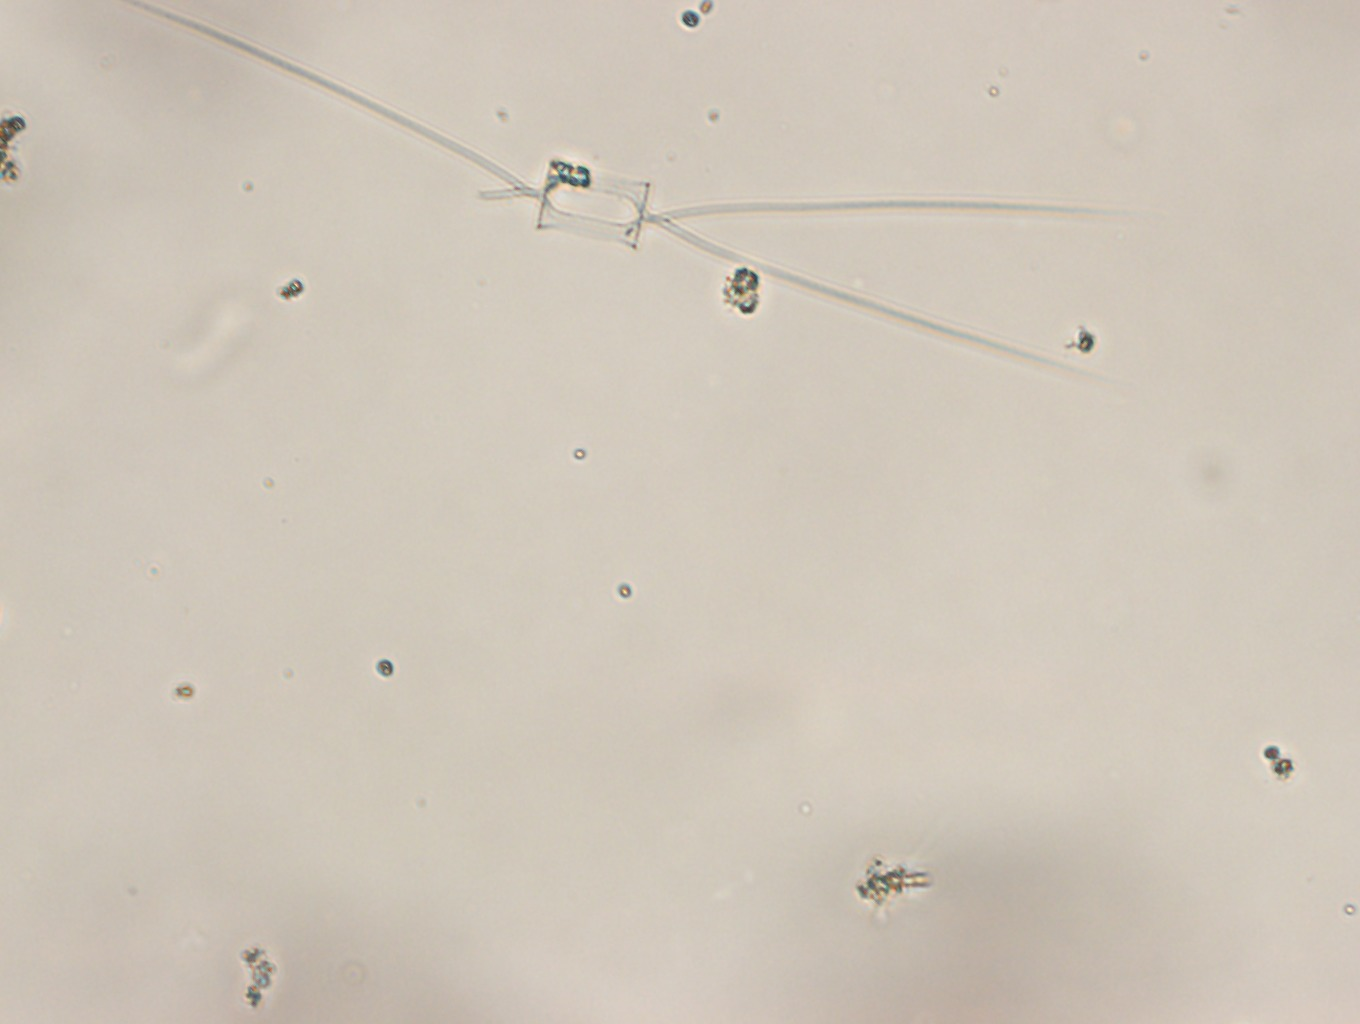chaetoceros: (117, 1, 1153, 392)
